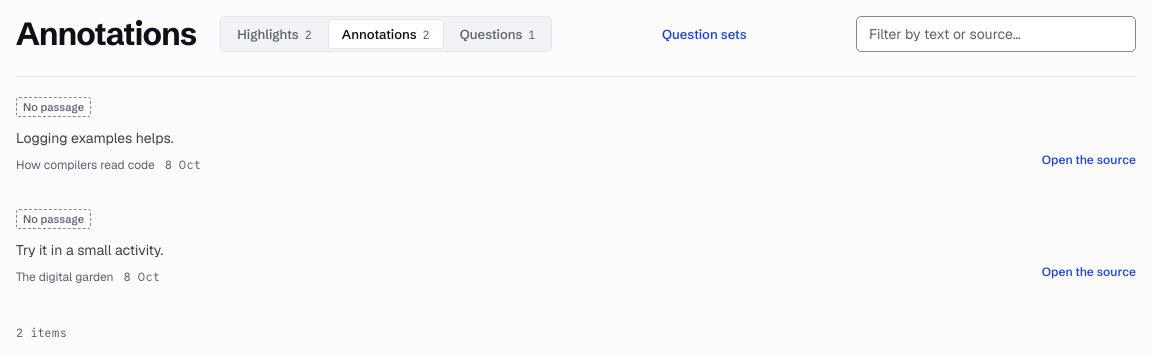
NotesView › filters the active list through the source rather than in the page
Type "logging examples" into the search field with id "notes-filter" at (996, 34), box top-left (856, 16), bottom-right (1136, 52)
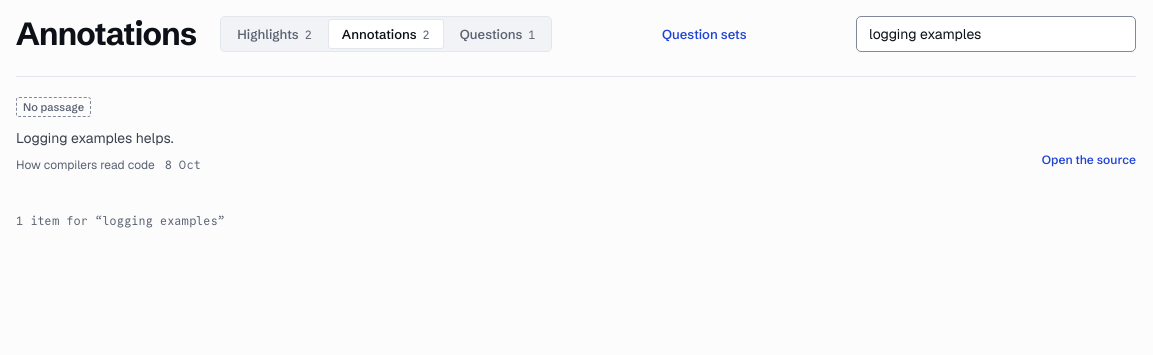
Now the number of elements with class "notes-annotation" is 1, box top-left (16, 77), bottom-right (1136, 189)
